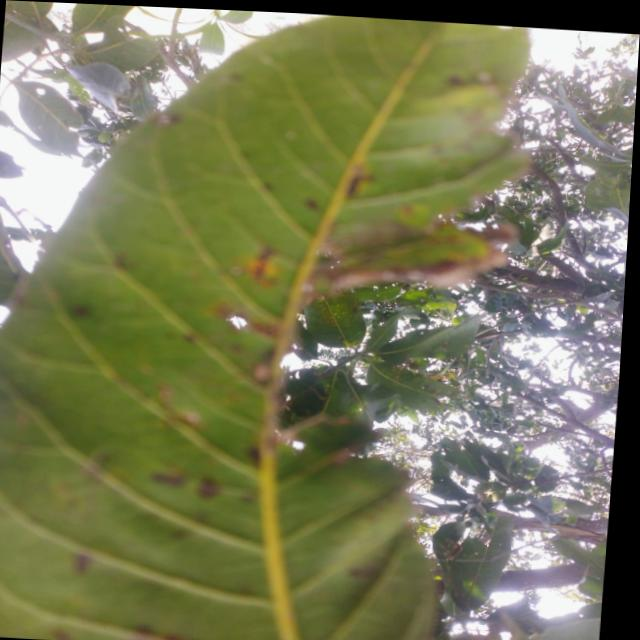Anthracnose: (140, 459, 231, 508), (70, 549, 96, 584)
Bacterial Cancer: (299, 209, 489, 271), (233, 245, 466, 287)
